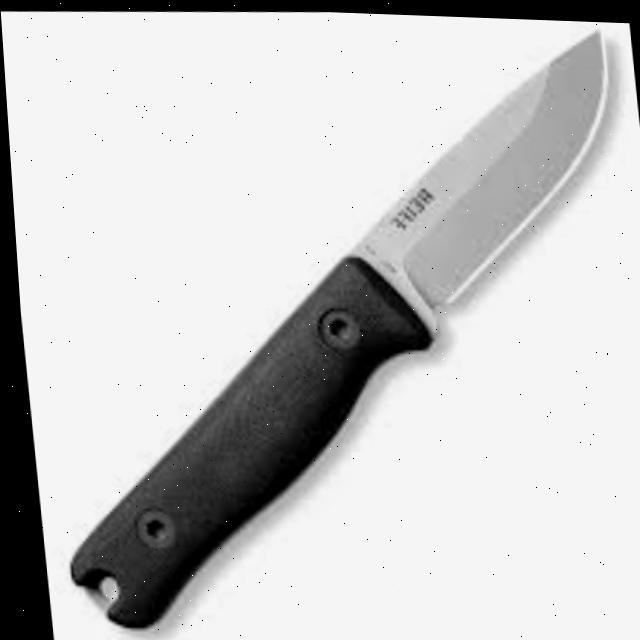Knife: (13, 2, 640, 640)
